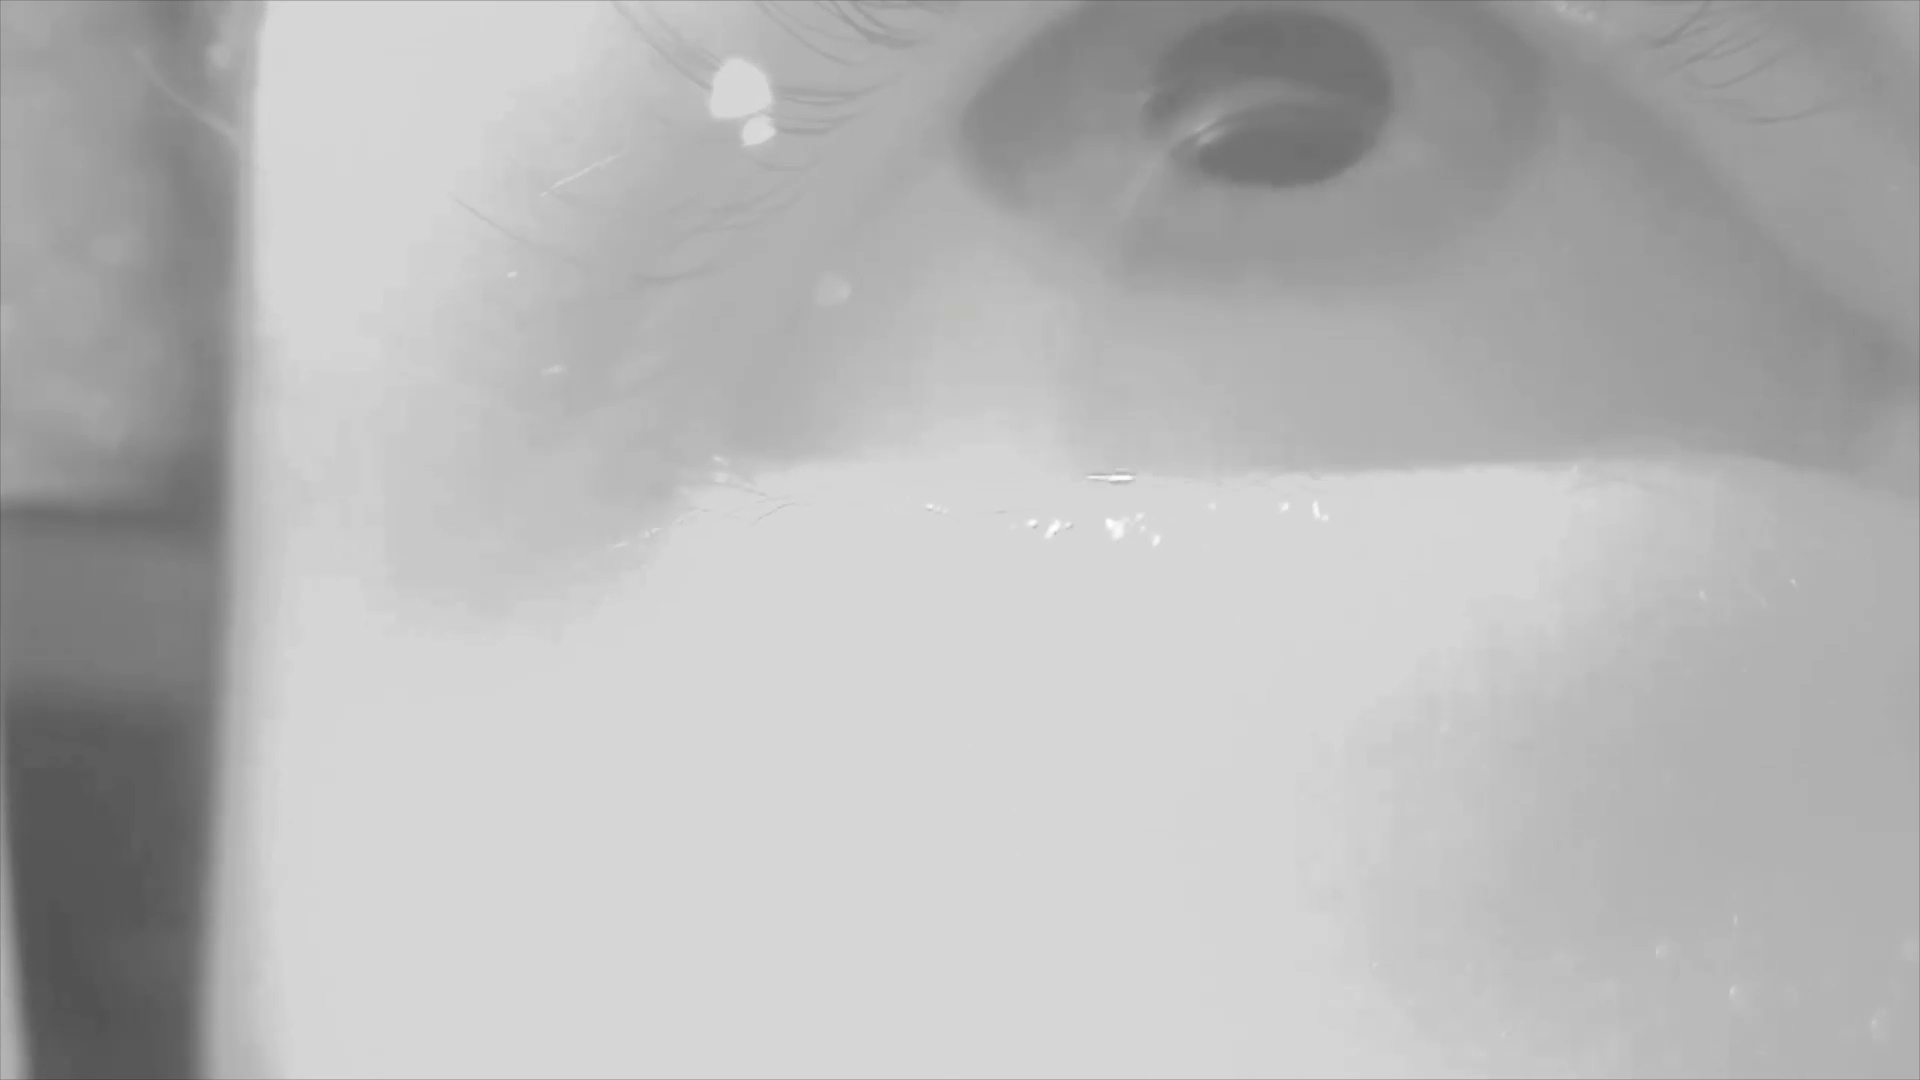pupil: (1147, 11, 1396, 190)
